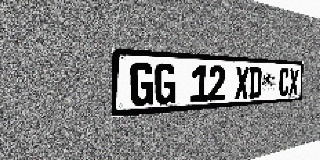1: (191, 65, 209, 102)
2: (209, 65, 225, 101)
C: (279, 68, 289, 96)
D: (249, 67, 262, 98)
G: (130, 62, 154, 107), (154, 63, 176, 105)
X: (235, 66, 249, 99), (289, 68, 299, 96)
